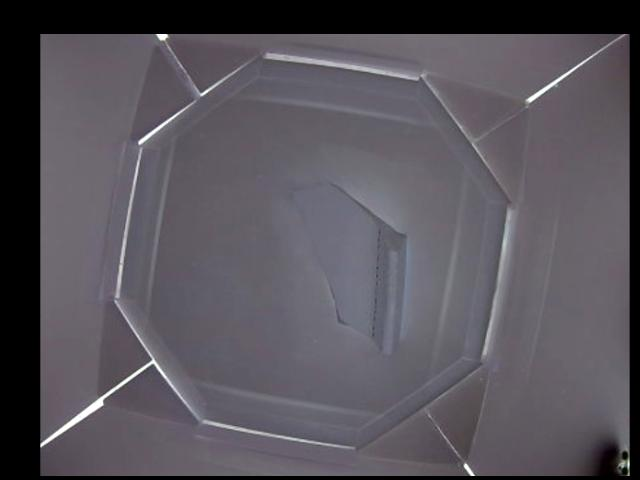China: (294, 181, 408, 354)
